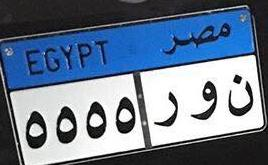5: (82, 98, 109, 141), (23, 109, 49, 153), (110, 95, 137, 137), (53, 103, 79, 143)
noon: (225, 73, 255, 120)
raa: (148, 88, 180, 130)
waw: (186, 79, 219, 124)
